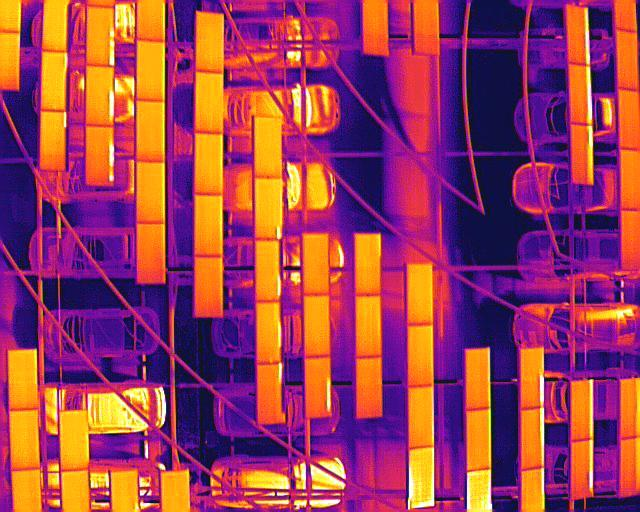Cell: (255, 179, 283, 240)
No-Anomaly: (7, 348, 37, 409), (195, 193, 224, 256), (355, 293, 383, 358), (135, 41, 165, 100), (136, 101, 165, 162), (195, 132, 223, 195), (406, 386, 434, 449), (11, 407, 38, 472), (256, 116, 283, 180), (136, 162, 164, 223), (195, 256, 223, 317), (196, 71, 223, 134), (406, 262, 433, 325), (58, 410, 88, 466), (354, 234, 381, 296), (407, 326, 434, 386), (197, 12, 223, 74), (362, 0, 390, 57), (303, 234, 329, 295), (356, 357, 382, 418), (305, 295, 330, 358), (138, 223, 165, 281), (465, 348, 490, 409), (467, 411, 491, 474), (40, 111, 64, 172), (618, 87, 640, 151), (413, 0, 438, 56), (616, 30, 640, 87), (42, 52, 64, 111), (43, 0, 68, 50)
Unclassified: (86, 126, 115, 185), (408, 447, 436, 508), (86, 65, 114, 125), (87, 8, 115, 67), (305, 357, 332, 418), (568, 439, 596, 497), (566, 4, 591, 65), (257, 303, 282, 364), (520, 345, 544, 408), (570, 379, 594, 442), (521, 408, 544, 473), (258, 239, 282, 299), (570, 122, 593, 184), (257, 364, 281, 423), (569, 64, 592, 125)
